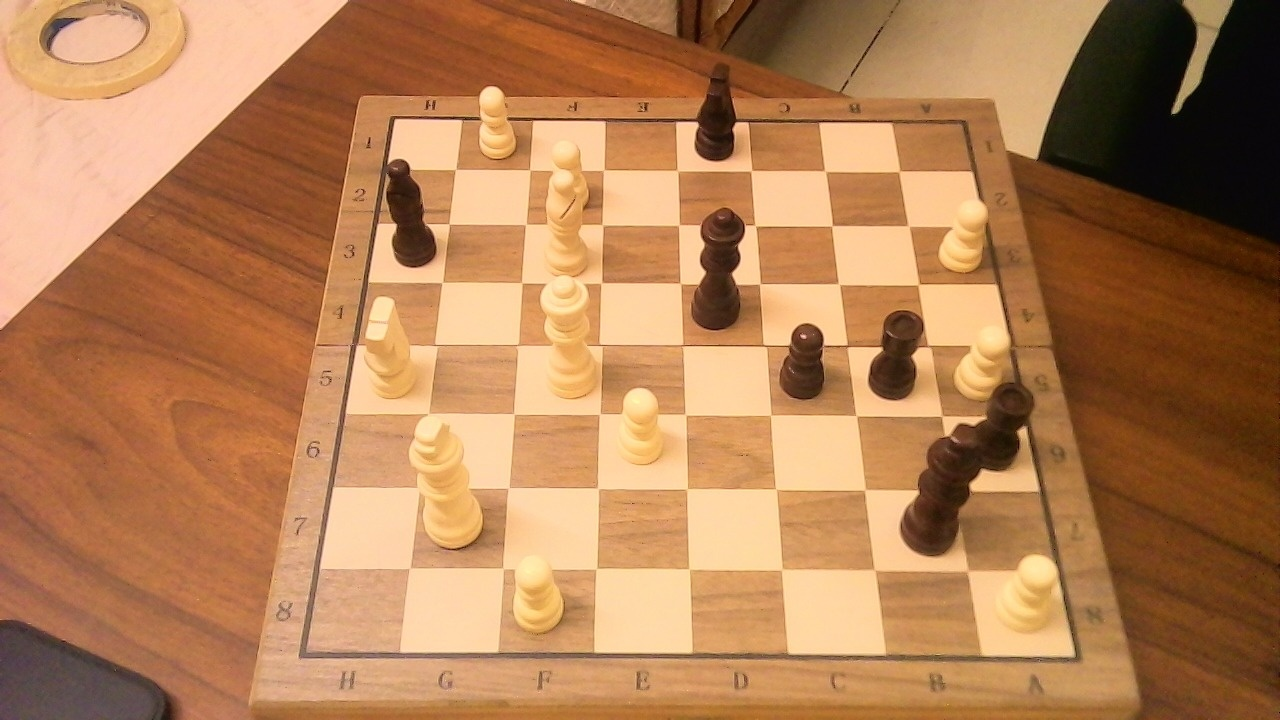B: (532, 160, 597, 277)
K: (405, 404, 493, 552)
N: (353, 324, 423, 405)
P: (989, 543, 1068, 637), (505, 544, 572, 638), (948, 316, 1019, 404), (606, 378, 670, 470), (932, 189, 996, 276), (468, 78, 522, 162), (539, 132, 594, 214)
Q: (528, 263, 602, 404)
b: (378, 147, 444, 271)
k: (894, 414, 994, 563)
n: (686, 51, 747, 165)
p: (774, 314, 836, 402)
q: (687, 196, 761, 334)
r: (963, 370, 1044, 472), (862, 298, 935, 406)
